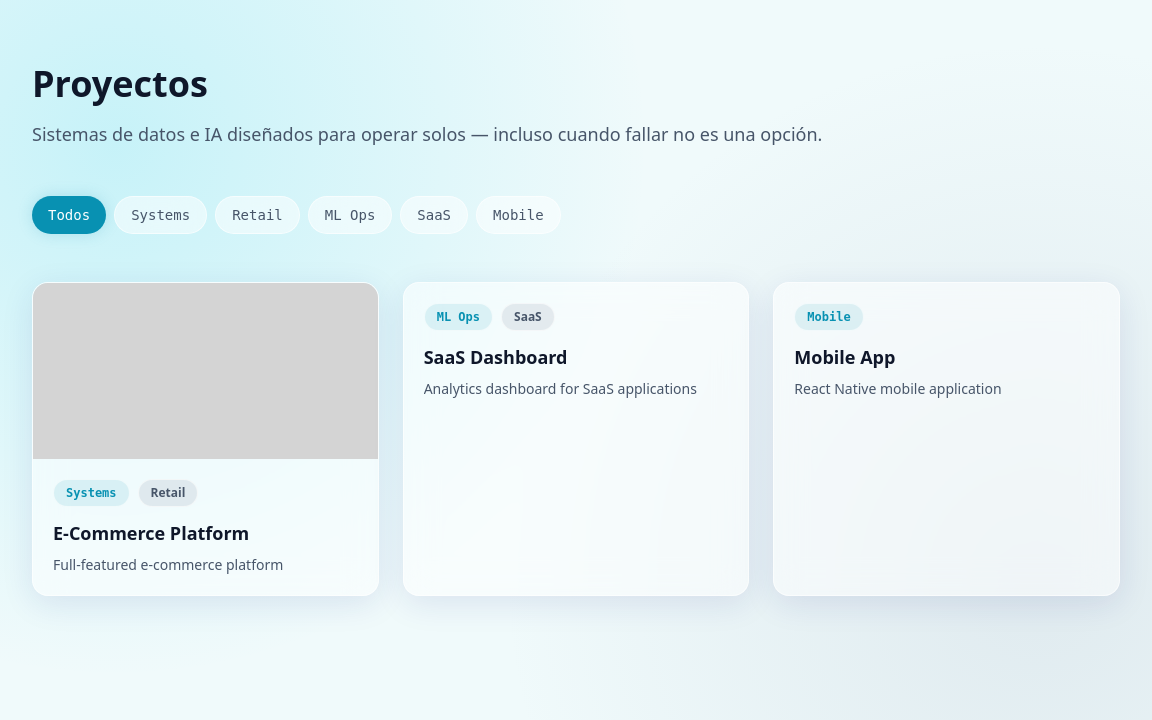
Test case: ProjectsPage › resets to all projects via the "Todos" button
Click the button "Systems": [161, 215] box 114,196 -> 207,234
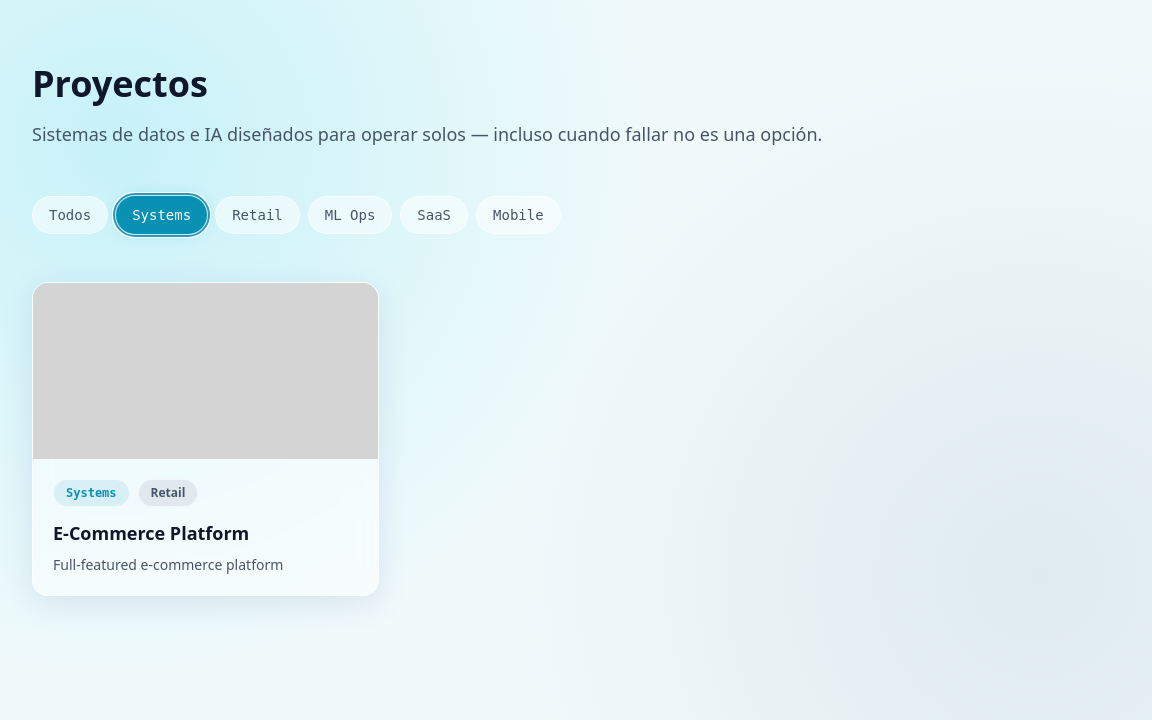
Click the button "Todos": [70, 215] box 32,196 -> 108,234
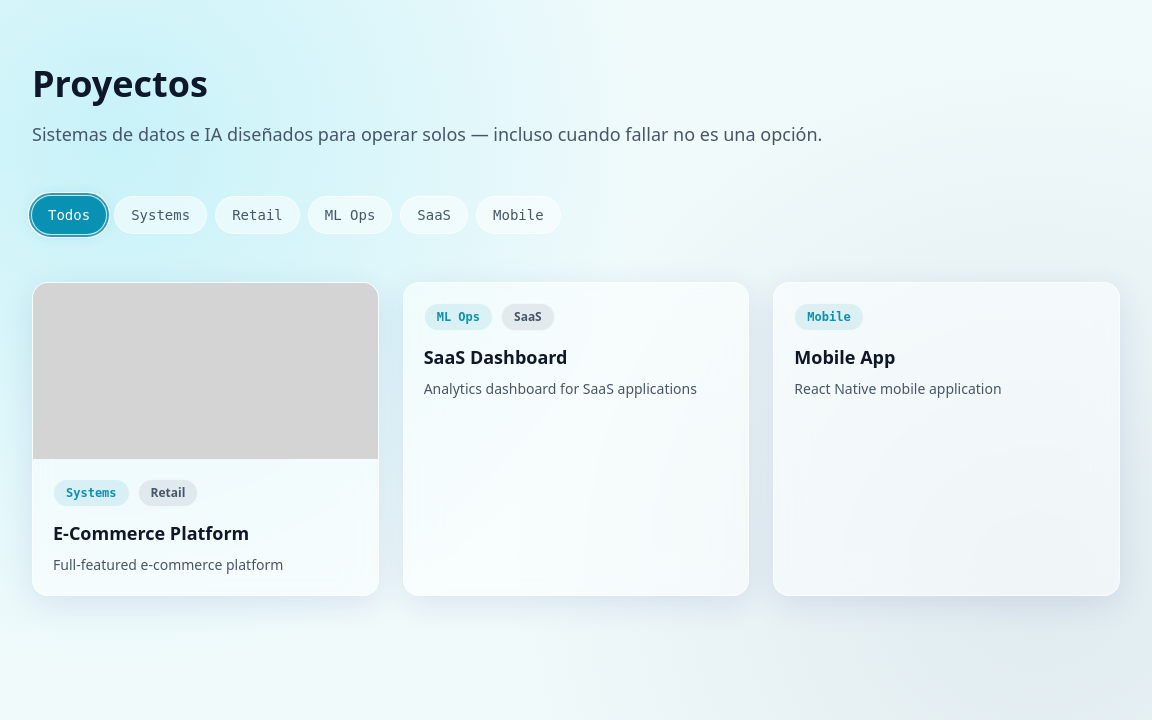
Expected: the heading "E-Commerce Platform" is shown, 53,521 -> 249,545
Result: the heading "SaaS Dashboard" is shown at 424,345 -> 568,369
Result: the heading "Mobile App" is shown at 794,345 -> 895,369
